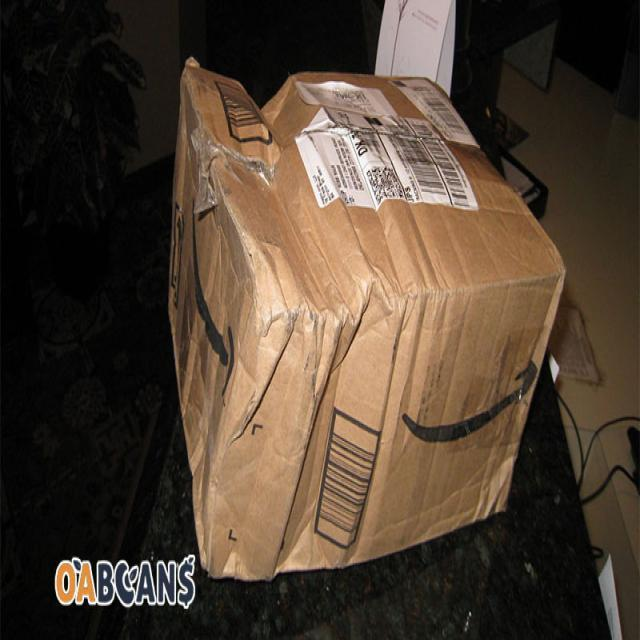box: (151, 379, 415, 637), (190, 314, 406, 486), (182, 228, 393, 383), (173, 168, 401, 297), (182, 54, 362, 215), (219, 314, 404, 408)
